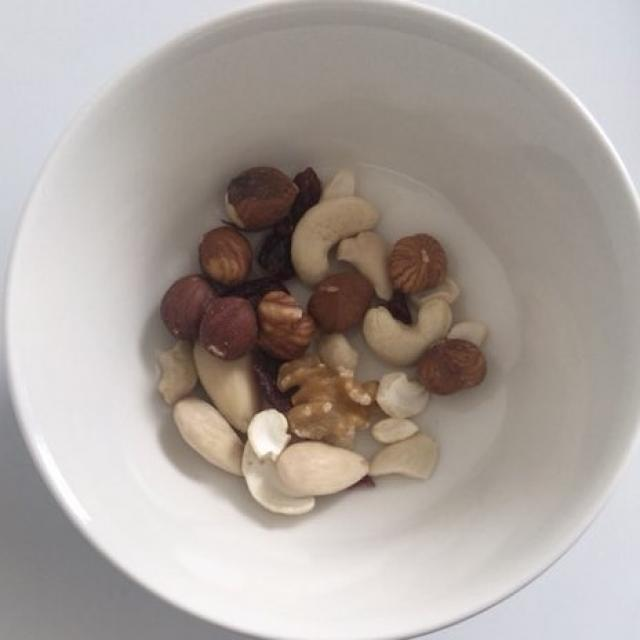mix-of-dried-fruits-and-nuts: (155, 163, 485, 508)
